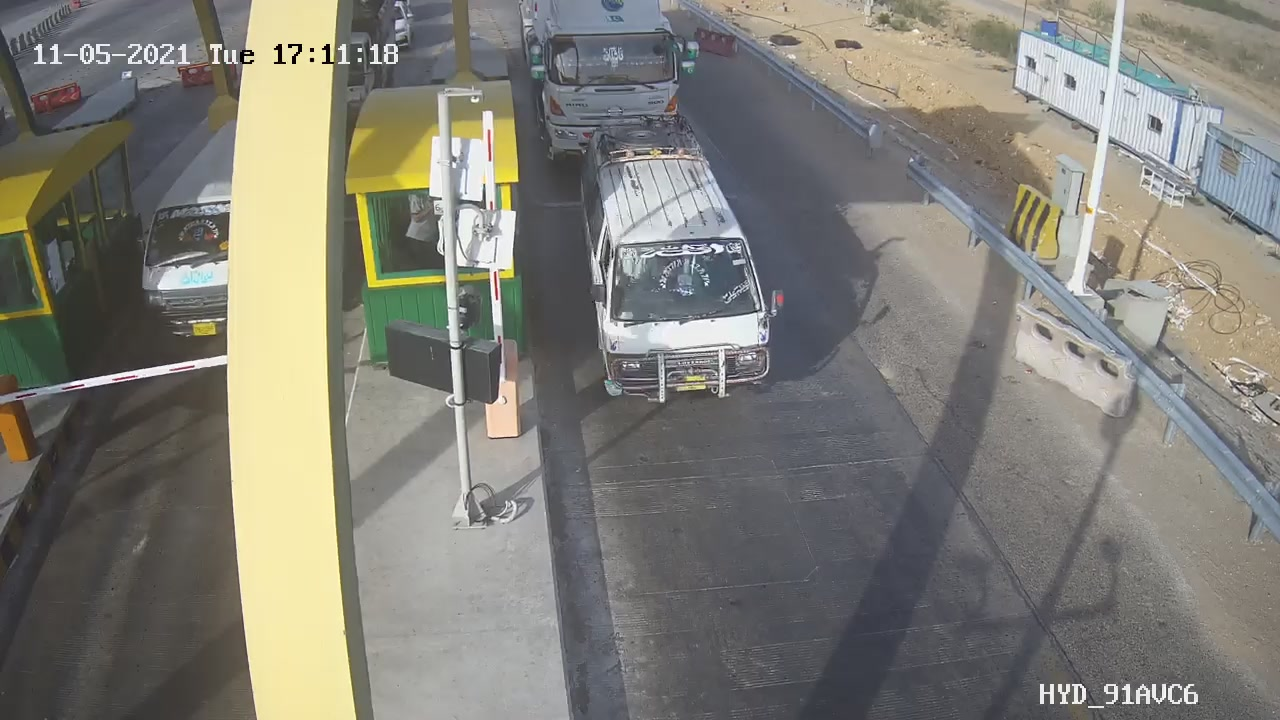F2: (551, 98, 812, 431)
